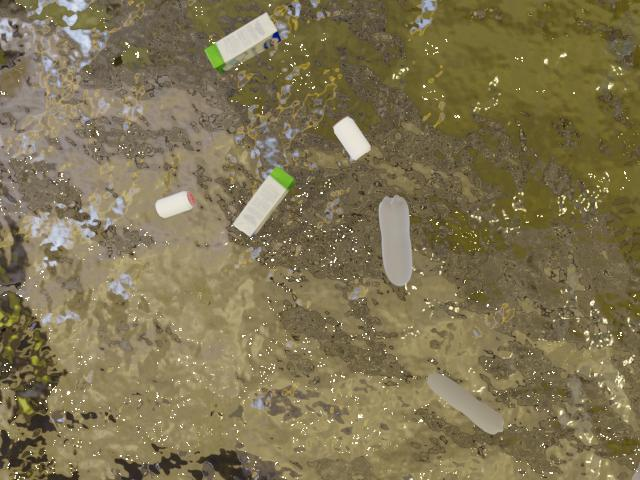Metal: (333, 106, 376, 171), (142, 184, 200, 230)
Plastic: (346, 182, 431, 298), (413, 351, 507, 435)
Trash: (193, 0, 298, 83), (230, 161, 294, 241)
